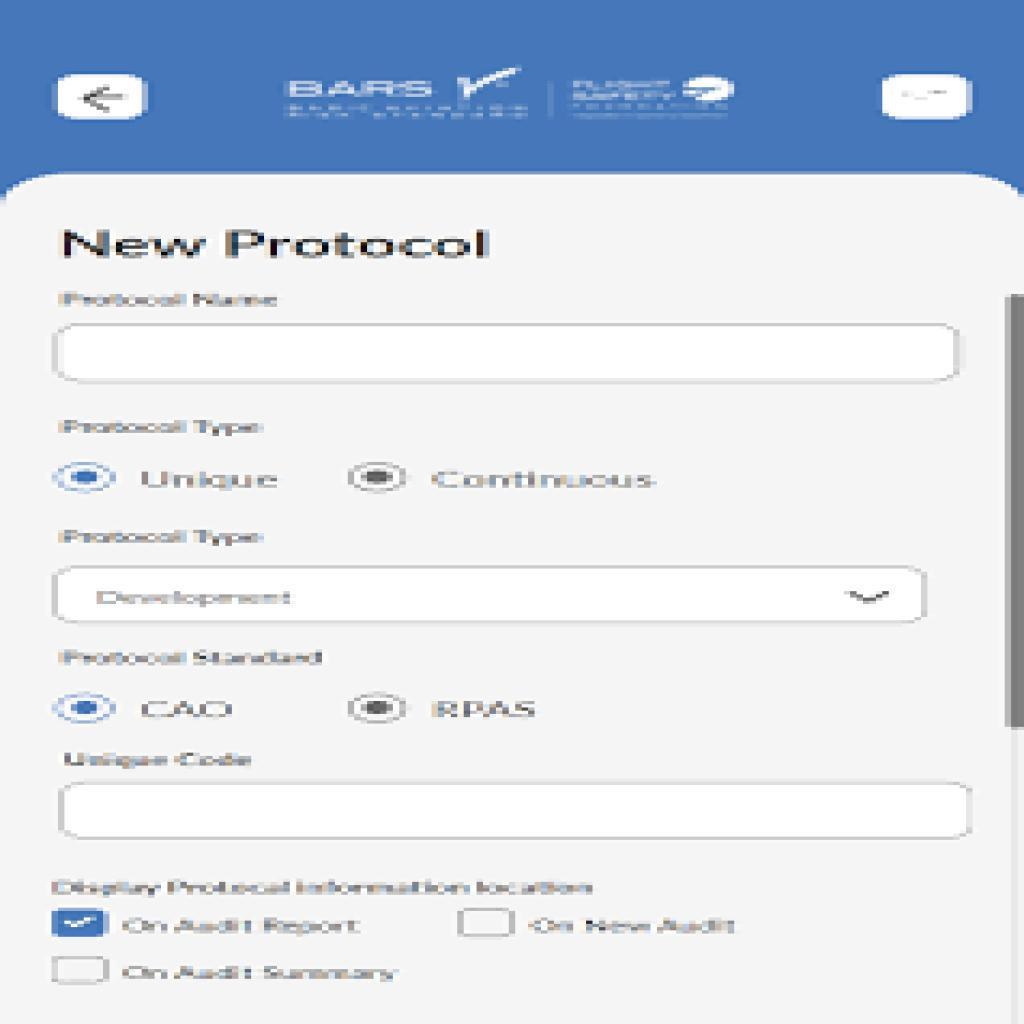checkbox: (52, 954, 113, 989), (54, 909, 109, 938), (459, 910, 517, 937)
dropdown: (56, 567, 926, 628)
input: (60, 782, 972, 841), (55, 324, 961, 379)
label: (124, 958, 407, 989), (122, 915, 368, 946), (432, 465, 660, 495), (530, 914, 740, 940), (140, 465, 288, 497), (141, 695, 241, 725), (432, 700, 538, 723)
radio: (45, 689, 121, 730), (345, 463, 413, 502), (52, 463, 120, 498), (346, 694, 413, 729)
